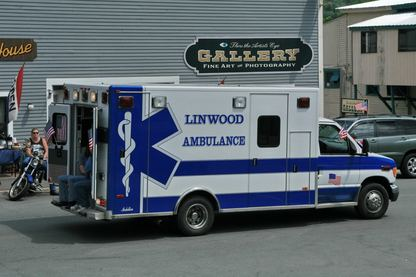ambulance: (47, 59, 399, 236)
car: (333, 115, 416, 177)
